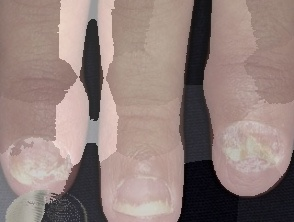Nail_psoriasis: (0, 126, 82, 197), (211, 115, 291, 183), (108, 190, 178, 221)
